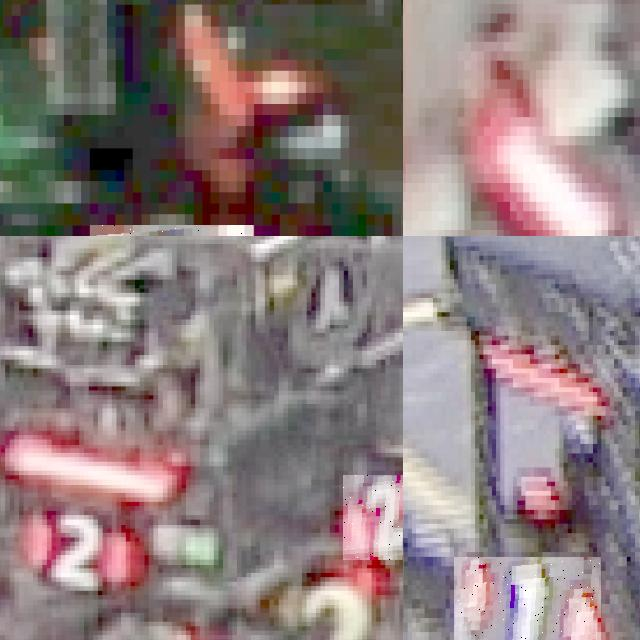R1: (453, 557, 601, 640)
R2: (24, 506, 130, 586), (343, 475, 403, 559)
